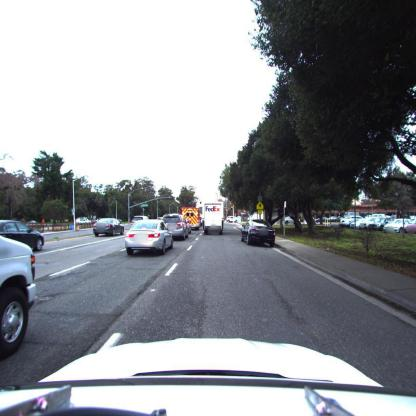car: (6, 338, 416, 416), (124, 221, 174, 256), (0, 221, 45, 253), (244, 222, 276, 248), (159, 214, 189, 241), (93, 219, 125, 237), (382, 218, 414, 235), (360, 215, 390, 231), (341, 216, 366, 230), (130, 216, 148, 224), (226, 218, 237, 224)
sign: (255, 200, 264, 216), (140, 204, 149, 208)
truck: (199, 202, 224, 235), (180, 208, 200, 232)
